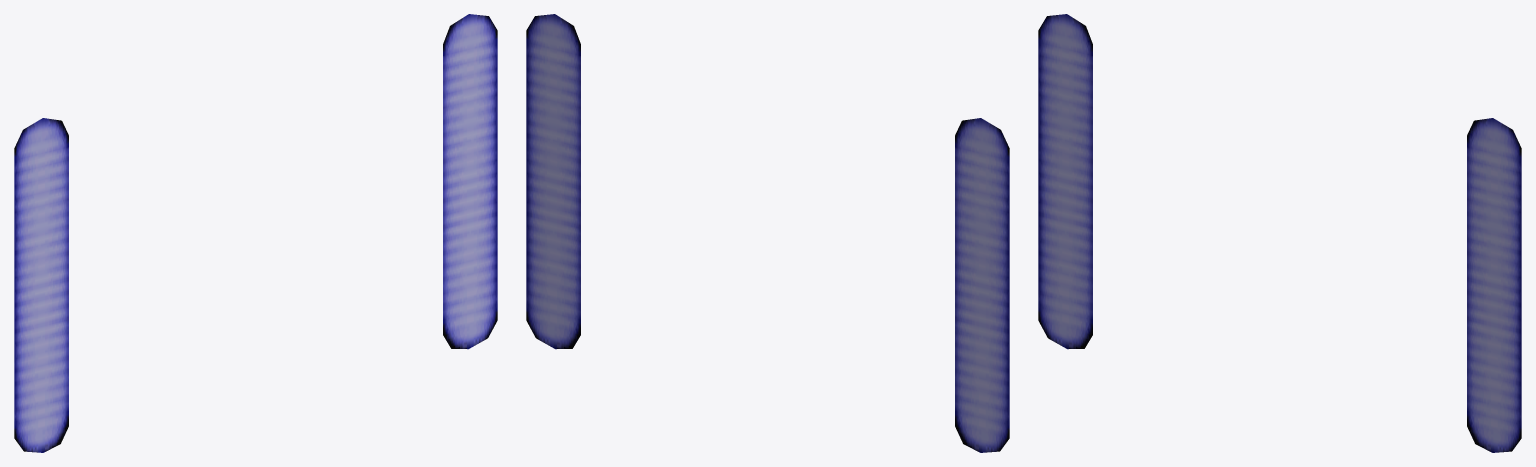
The model's file is bwing_engine_s02_on_l1.fbx.
3 views of the same model, side by side, from view 1: azimuth 30°, elevation 25°; view 2: azimuth 150°, elevation 25°; view 3: azimuth 330°, elevation 25° (orthographic).
Visible parts, largest first — view 1: mesh_node; view 2: mesh_node; view 3: mesh_node.
Part boxes in pixels (x1,y1,x2,y2): mesh_node: [14, 14, 497, 452]; mesh_node: [526, 14, 1009, 452]; mesh_node: [1038, 14, 1521, 452].
Size of the model in its own units: 1.51 by 1 by 0.
Materials: 1 (1 with a texture image).
